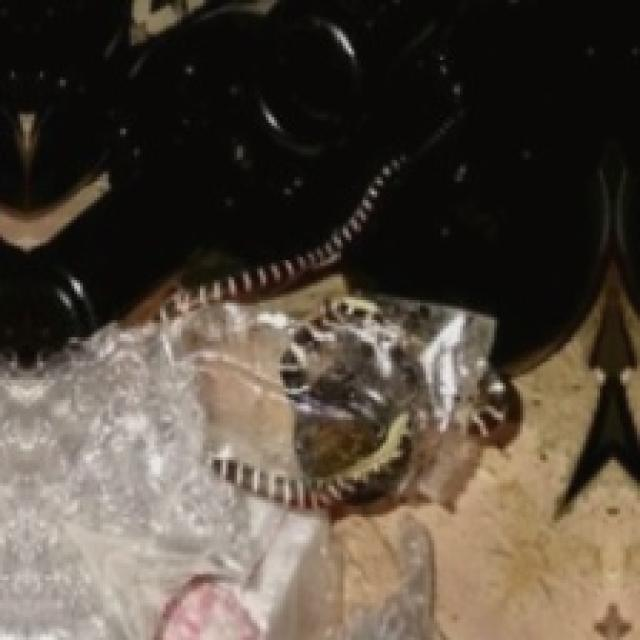paradise tree snake: (0, 0, 637, 637), (171, 269, 497, 511), (186, 277, 506, 506)
